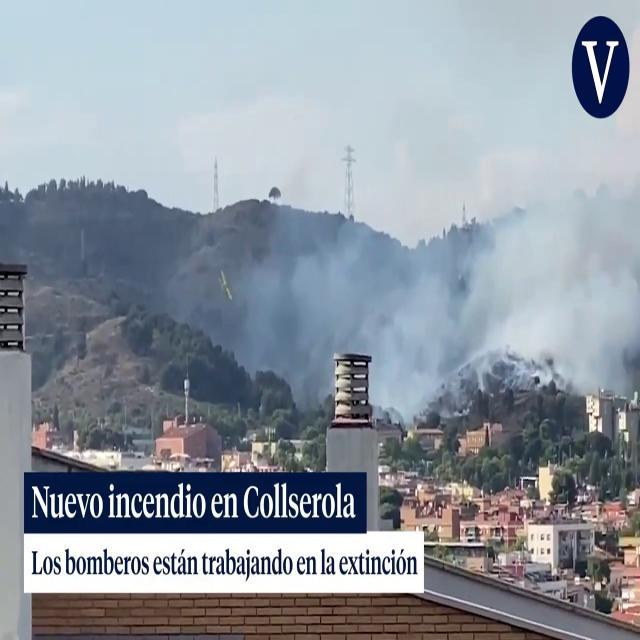Smoke: (232, 108, 640, 414)
